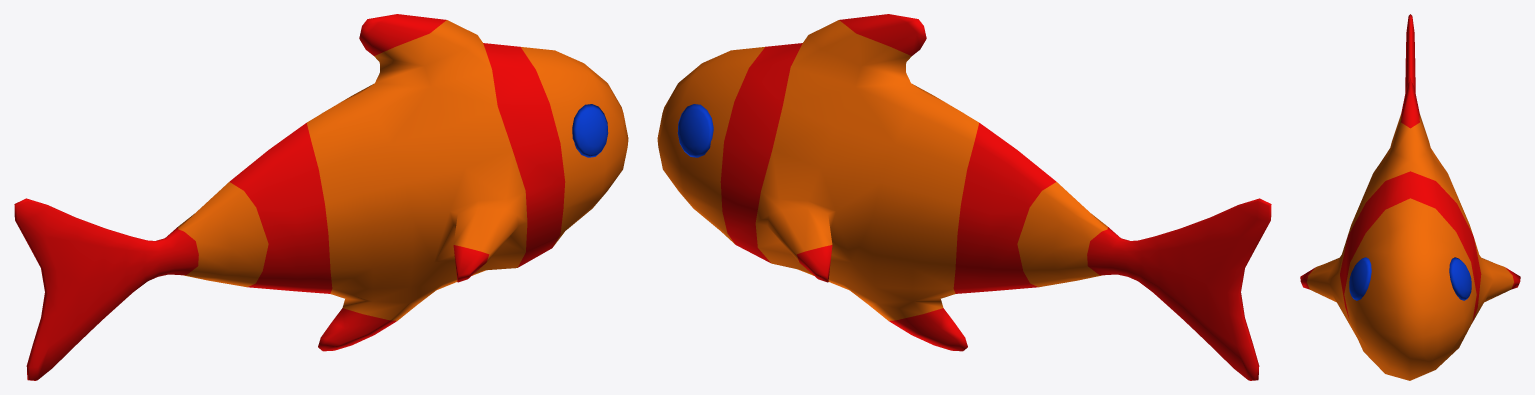
Rendered from Fishes.fbx.
3 views of the same model, side by side, from view 1: azimuth 30°, elevation 25°; view 2: azimuth 150°, elevation 25°; view 3: azimuth 270°, elevation 25° (orthographic). The views are drawn at different scales.
Visible parts, largest first — view 1: Fish_01; view 2: Fish_01; view 3: Fish_01.
Boxes of the visible parts, x1,y1,x2,y2 form: Fish_01: (14, 14, 628, 380); Fish_01: (657, 14, 1271, 380); Fish_01: (1300, 14, 1520, 380).
Size of the model in its own units: 10.13 by 5.13 by 3.66.
